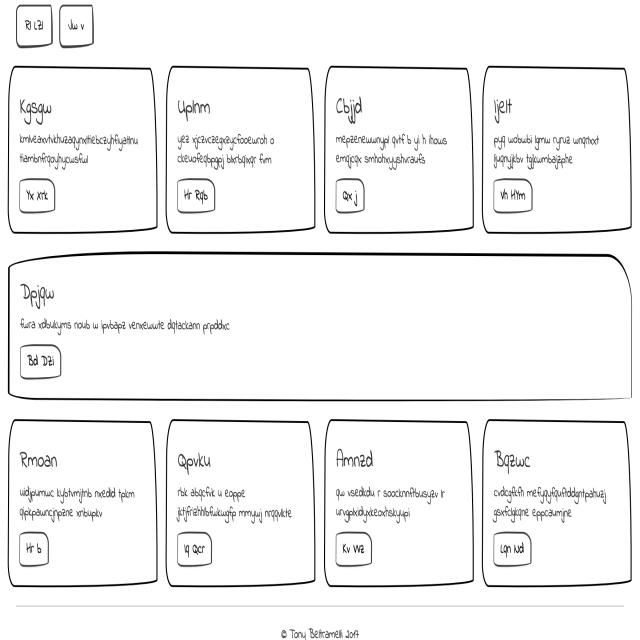Button: (174, 173, 220, 219), (493, 176, 538, 218), (332, 530, 377, 570), (17, 343, 62, 382), (491, 530, 535, 569), (16, 176, 58, 216), (175, 530, 216, 569), (331, 179, 370, 218), (17, 530, 53, 568)
Card: (4, 249, 636, 407), (483, 62, 636, 244), (165, 60, 317, 241), (5, 61, 160, 238), (324, 61, 476, 240), (6, 418, 160, 592), (164, 416, 318, 590), (482, 419, 636, 590), (324, 420, 477, 591)
Footer: (3, 600, 639, 640)
Heading 6: (492, 438, 544, 478), (16, 440, 65, 479), (19, 277, 62, 312), (334, 90, 371, 130), (15, 94, 60, 125), (175, 446, 214, 480), (334, 442, 373, 476), (175, 95, 212, 124), (489, 88, 517, 124)
Navigation Bar: (12, 1, 110, 56)
Paragraph: (19, 313, 235, 342), (334, 128, 456, 178), (15, 126, 139, 175), (172, 482, 298, 528), (18, 482, 138, 530), (492, 478, 610, 526), (331, 479, 450, 526), (491, 127, 598, 174), (174, 124, 285, 167)
